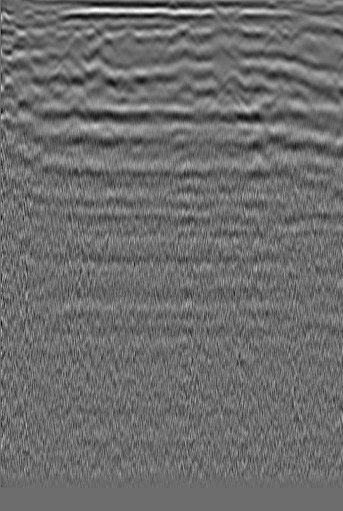가스: (209, 70, 253, 115)
상수: (286, 24, 306, 44)
오수: (12, 26, 32, 46)
우수: (174, 22, 194, 42)
